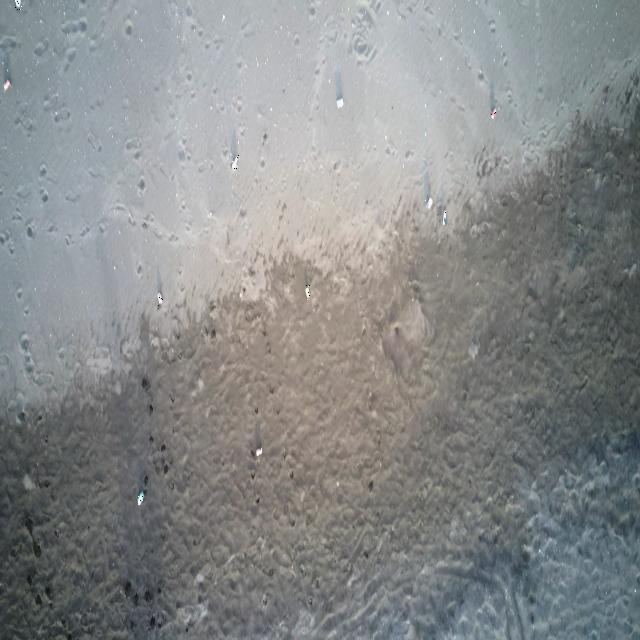tin-and-aluminum-cans: (231, 154, 239, 170), (137, 490, 144, 506), (255, 446, 264, 458), (336, 96, 344, 109), (3, 80, 11, 92), (424, 198, 432, 210), (305, 285, 311, 301), (442, 210, 447, 228), (157, 292, 163, 306), (14, 0, 22, 10), (491, 109, 497, 120)
